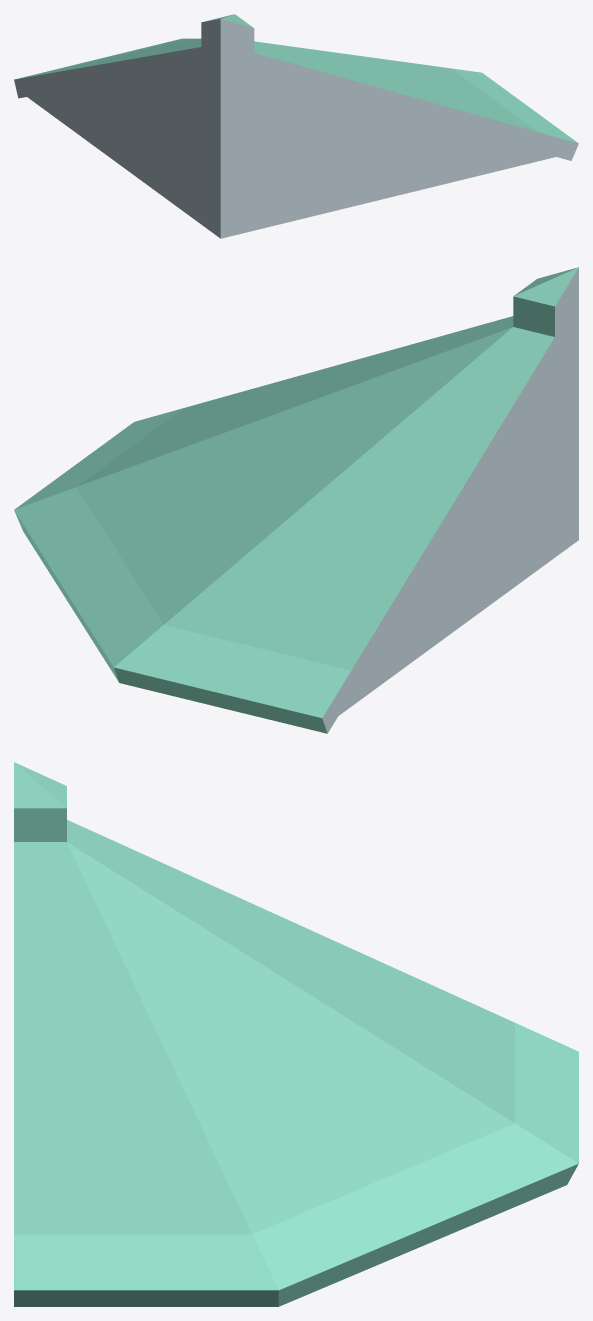
File: roof_corner_round.glb
3 views of the same model, one above another, from view 1: azimuth 30°, elevation 25°; view 2: azimuth 150°, elevation 25°; view 3: azimuth 270°, elevation 25° (orthographic). The views are drawn at different scales.
Parts seen in each view (by area): view 1: roofCornerRound; view 2: roofCornerRound; view 3: roofCornerRound.
Boxes of the visible parts, x1,y1,x2,y2 form: roofCornerRound: (14,14,578,238); roofCornerRound: (14,267,578,733); roofCornerRound: (14,762,578,1306).
Size of the model in its own units: 1.07 by 0.6483 by 1.07.
